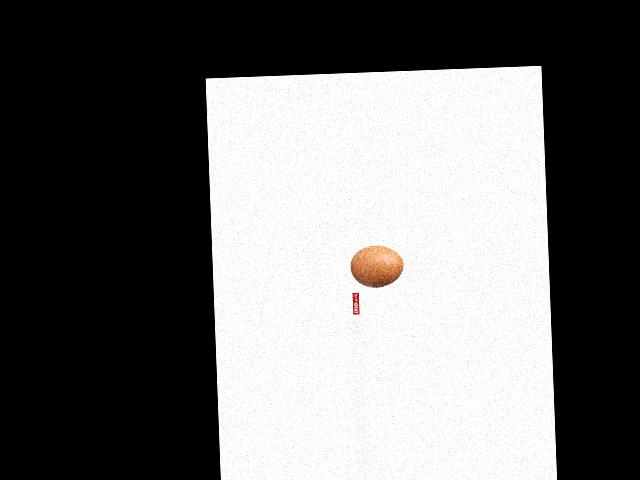egg: (349, 244, 403, 288)
